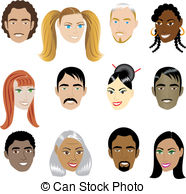face: (48, 129, 98, 175), (102, 60, 143, 111), (145, 1, 184, 52), (105, 125, 142, 177), (6, 68, 46, 116), (51, 63, 89, 113), (150, 131, 185, 181), (147, 66, 184, 113), (1, 1, 40, 44), (2, 125, 34, 177), (106, 1, 139, 49), (57, 7, 95, 44)
